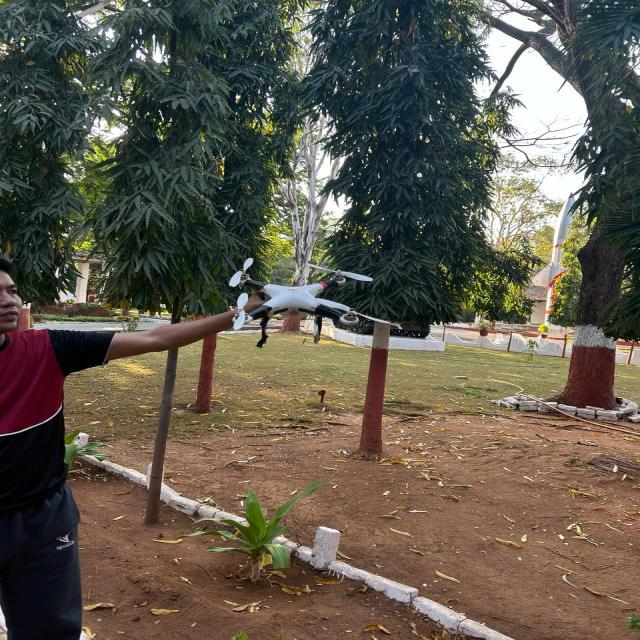drone: (209, 238, 403, 352)
